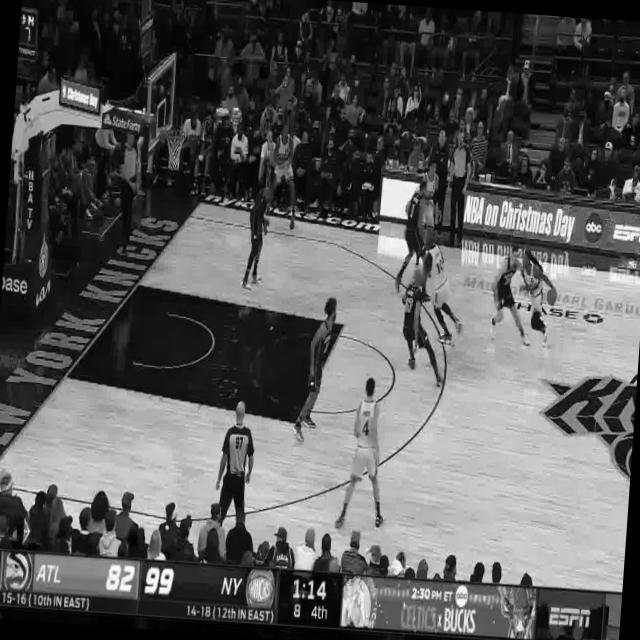ball-handler: (510, 236, 562, 358)
